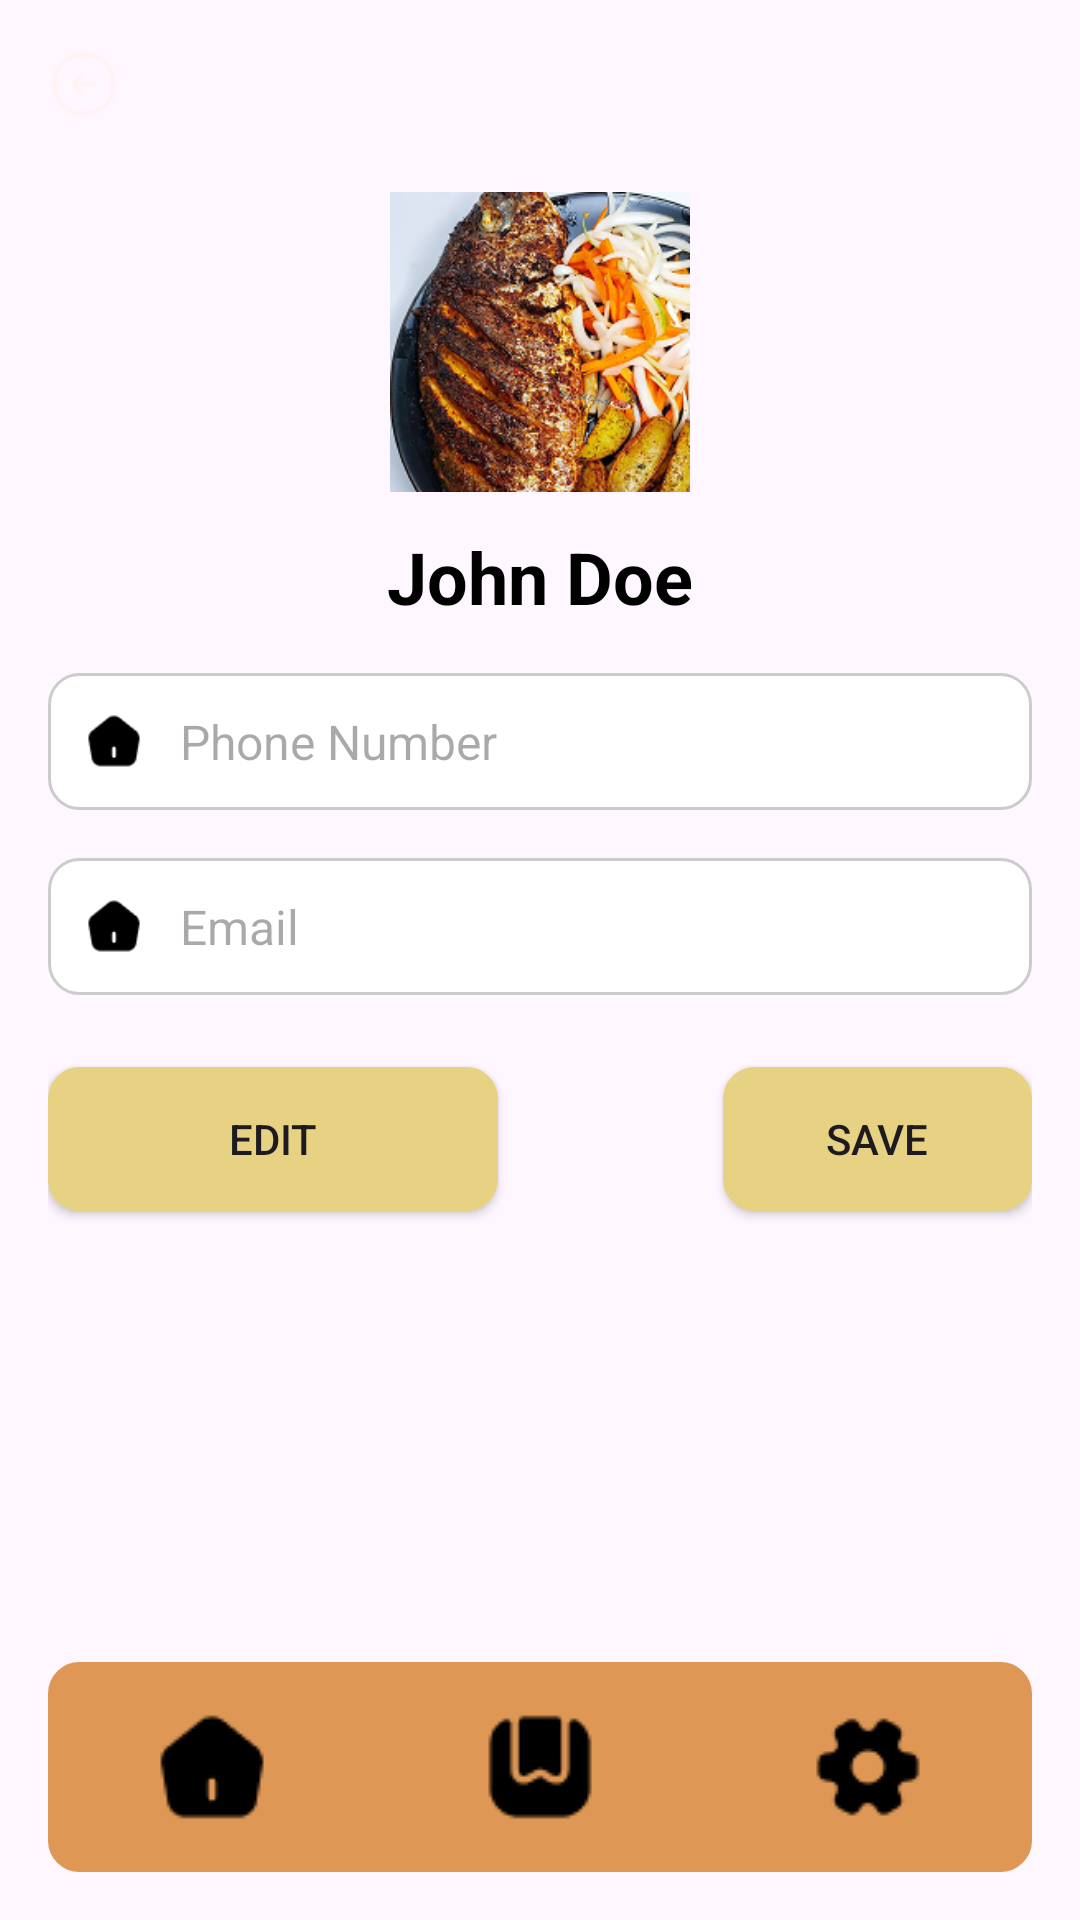

Screen size 1080 x 1920. Icon name, then its box in pixels as (x1, y1, x2, y2):
book: (488, 1715, 592, 1819)
fish: (390, 192, 690, 492)
home: (88, 715, 140, 767), (88, 900, 140, 952), (160, 1715, 264, 1819)
settings: (816, 1718, 920, 1816)
